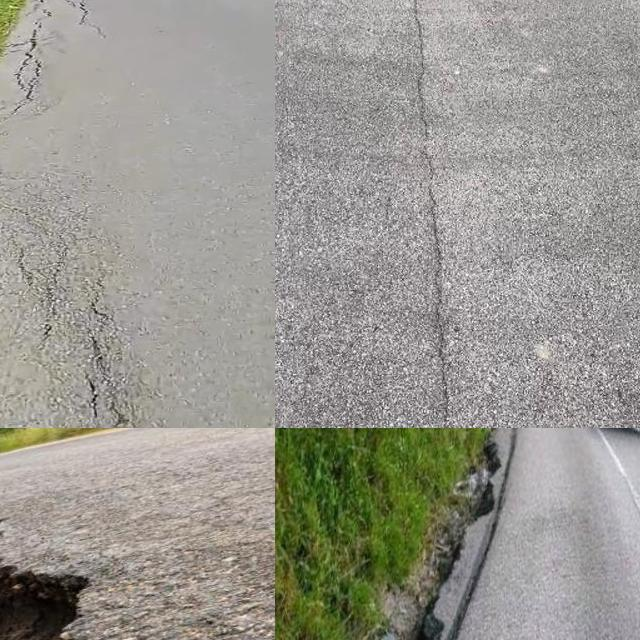Memanjang: (397, 0, 469, 428)
Pinggir: (379, 428, 525, 640), (0, 493, 206, 640), (0, 0, 91, 185)
